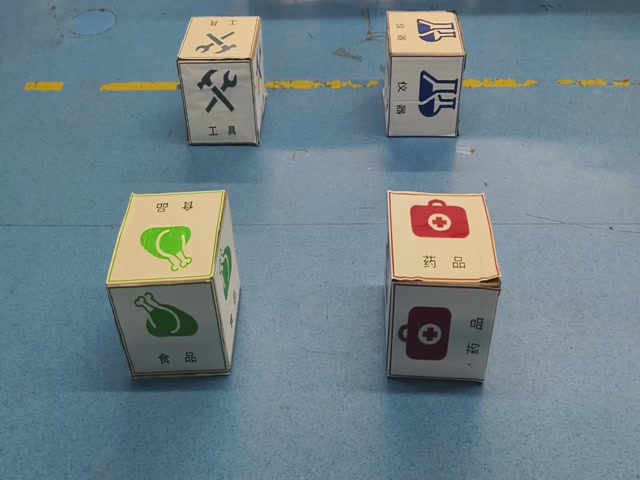Cube_food: (106, 188, 224, 291)
Cube_ins: (387, 8, 462, 58)
Cube_medicine: (388, 190, 498, 290)
Cube_tool: (175, 13, 258, 63)
